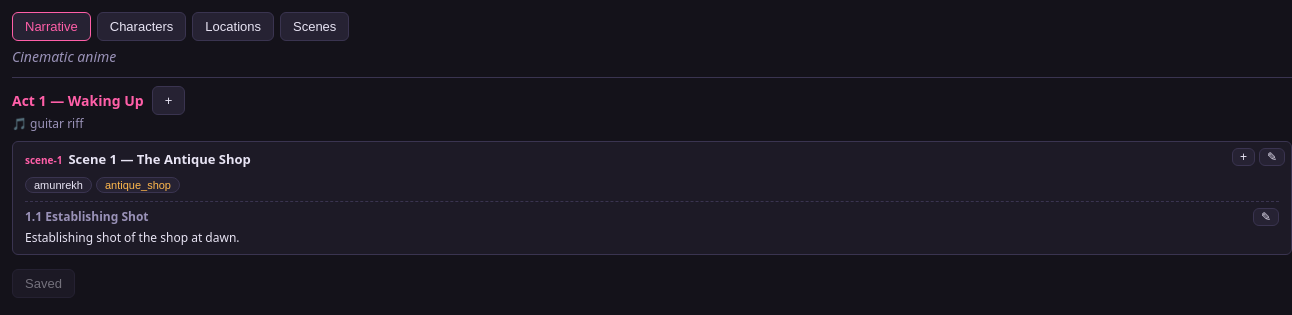
Test: Storyboard › a character chip navigates to the Characters section, focused
Expected: the heading "scene-1Scene 1 — The Antique Shop" is shown, [25, 150, 251, 168]
Click the button "amunrekh" at (58, 184), box [25, 176, 92, 192]
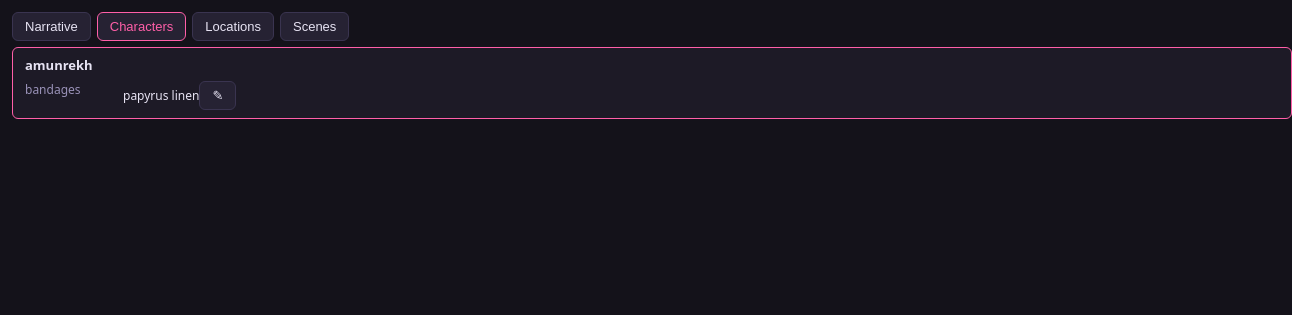
Expected: the text "bandages" is shown, [25, 81, 80, 98]
